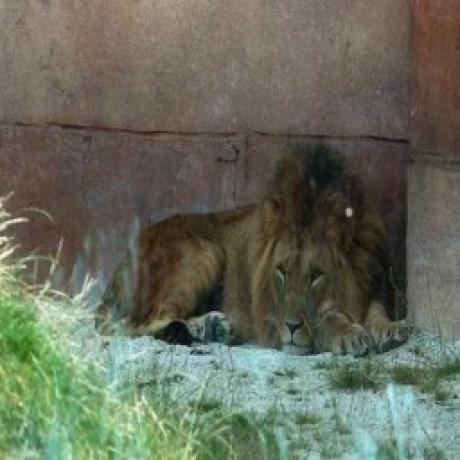Lion: (104, 148, 406, 368)
